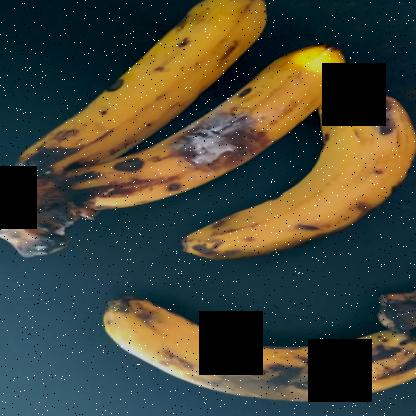ripe: (76, 286, 415, 415), (173, 84, 412, 263), (14, 1, 262, 151)
rotten: (65, 33, 349, 211)
